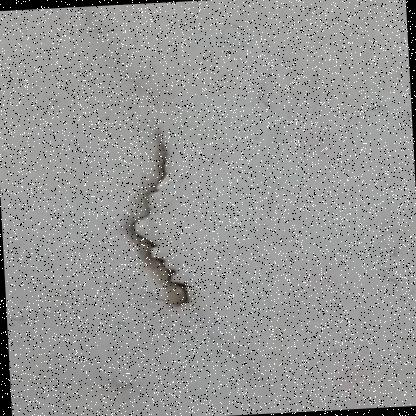Crack: (80, 93, 222, 339)
